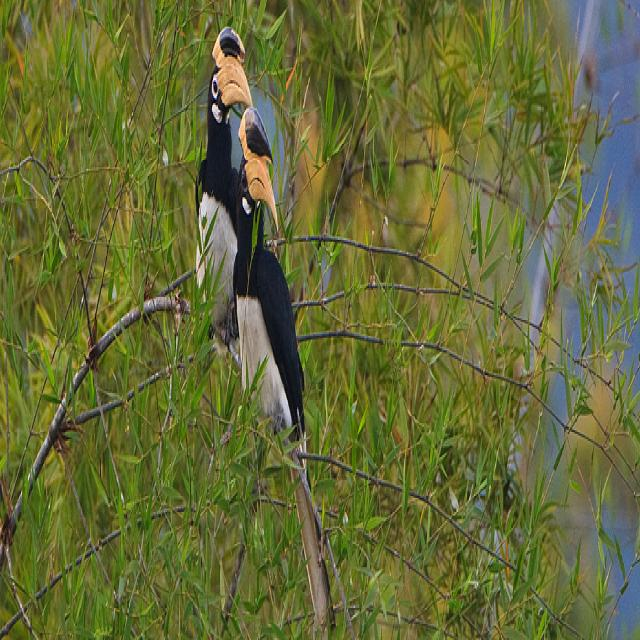Hornbill: (236, 113, 308, 468)
